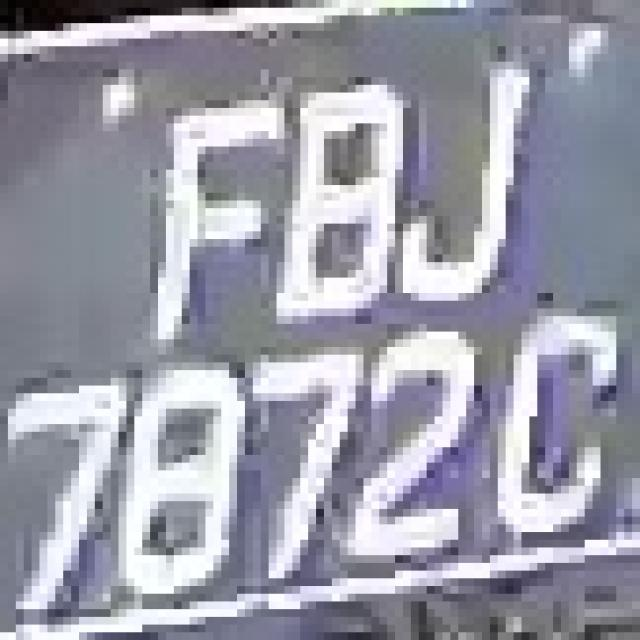2: (340, 324, 474, 578)
7: (229, 324, 356, 624), (8, 332, 111, 632)
8: (111, 355, 229, 601)
B: (276, 77, 411, 324)
C: (490, 308, 624, 578)
F: (134, 93, 276, 339)
J: (403, 46, 545, 308)
